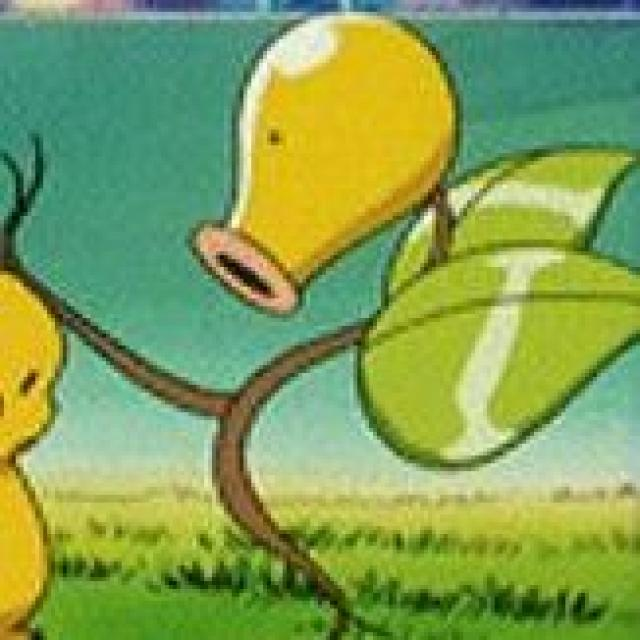Bellsprout: (111, 24, 544, 550)
